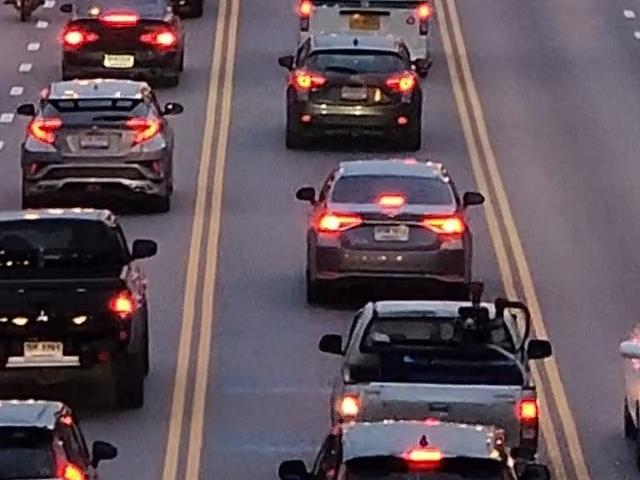car: (283, 148, 497, 305), (20, 78, 180, 202), (276, 415, 553, 480), (280, 34, 433, 146), (64, 0, 184, 84), (0, 398, 120, 480)
pickup-truck: (340, 298, 567, 438), (0, 201, 160, 398)
van: (289, 0, 432, 65)
